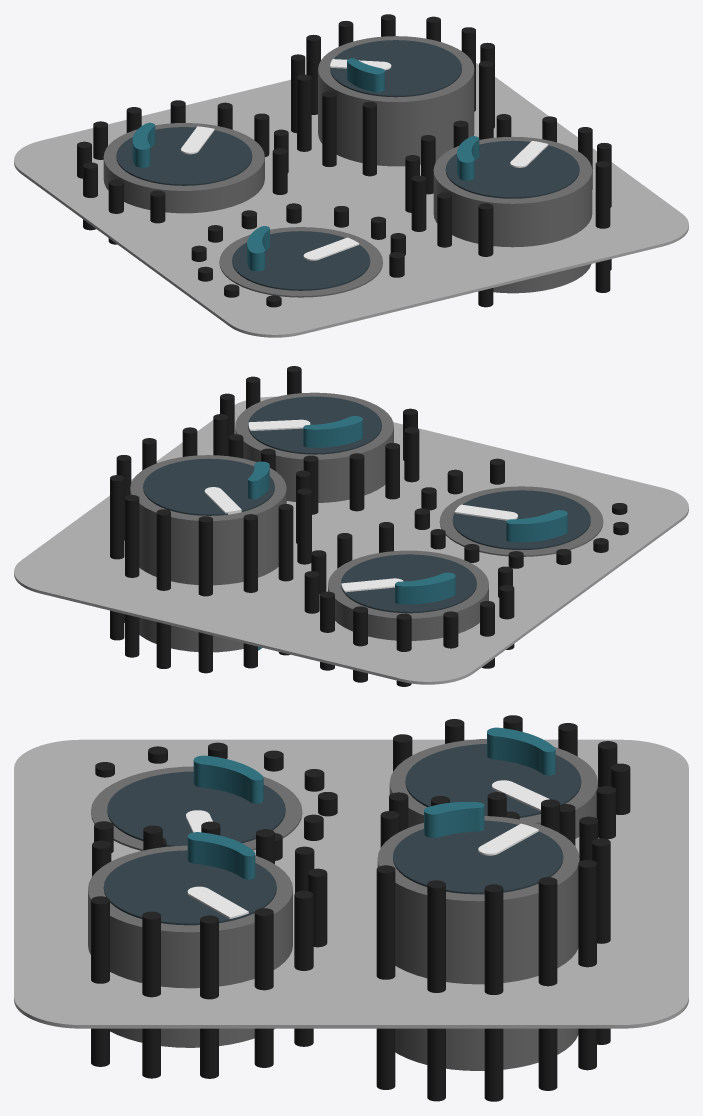
The model's file is emoji_u1f39b.glb.
The picture shows the model from 3 angles, top to bottom: view 1: azimuth 30°, elevation 25°; view 2: azimuth 150°, elevation 25°; view 3: azimuth 270°, elevation 25°; orthographic projection. The views are drawn at different scales.
Parts seen in each view (by area): view 1: emoji_u1f39b; view 2: emoji_u1f39b; view 3: emoji_u1f39b.
Boxes of the visible parts, left/top/right/bottom form: emoji_u1f39b: left=14, top=14, right=688, bottom=337; emoji_u1f39b: left=14, top=366, right=688, bottom=686; emoji_u1f39b: left=14, top=715, right=688, bottom=1101.
Size of the model in its own units: 0.0339 by 0.0122 by 0.0339.
